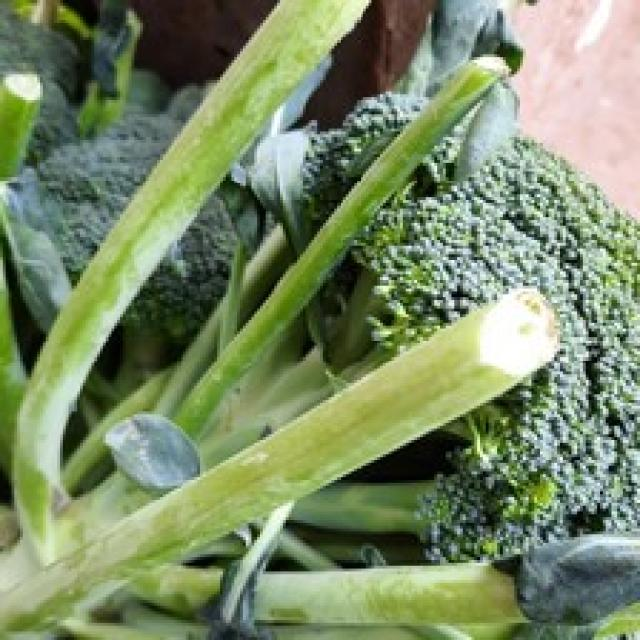Broccoli: (352, 120, 640, 561), (356, 139, 640, 561), (38, 94, 194, 281), (35, 112, 182, 279), (122, 196, 235, 382), (124, 196, 234, 378), (304, 94, 423, 219), (309, 96, 419, 197)
